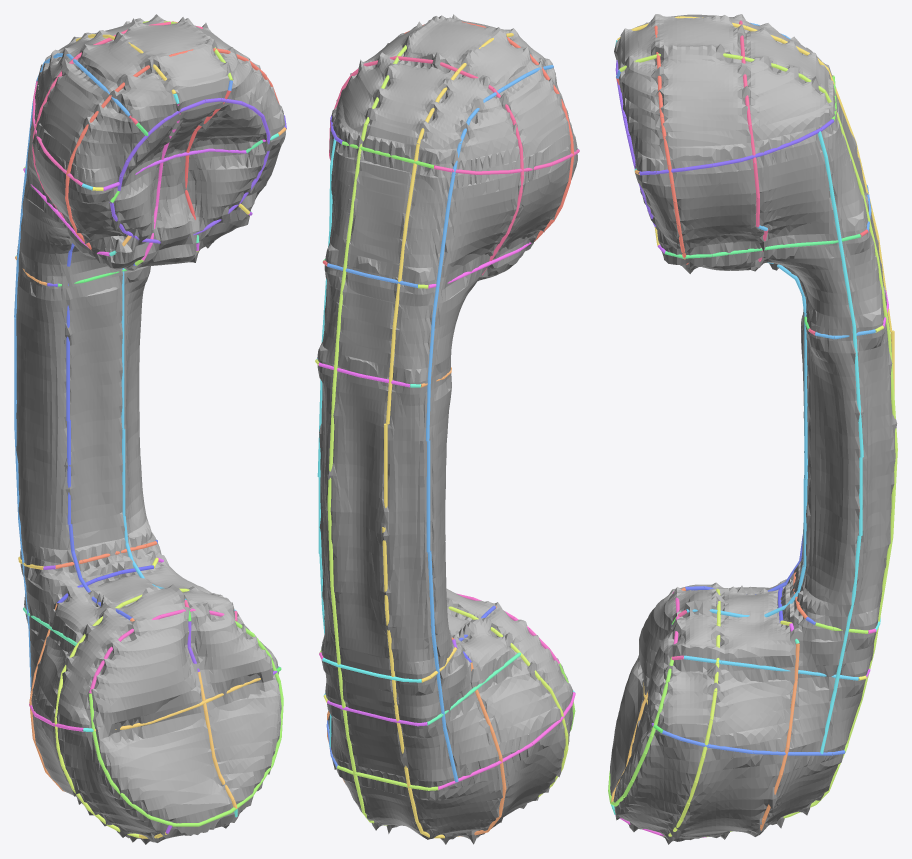
Rendered from flowrep_phone.gltf.
The picture shows the model from 3 angles, left to right: view 1: azimuth 30°, elevation 25°; view 2: azimuth 150°, elevation 25°; view 3: azimuth 270°, elevation 25°; orthographic projection.
Size of the model in its own units: 0.2674 by 0.9282 by 0.3042.
